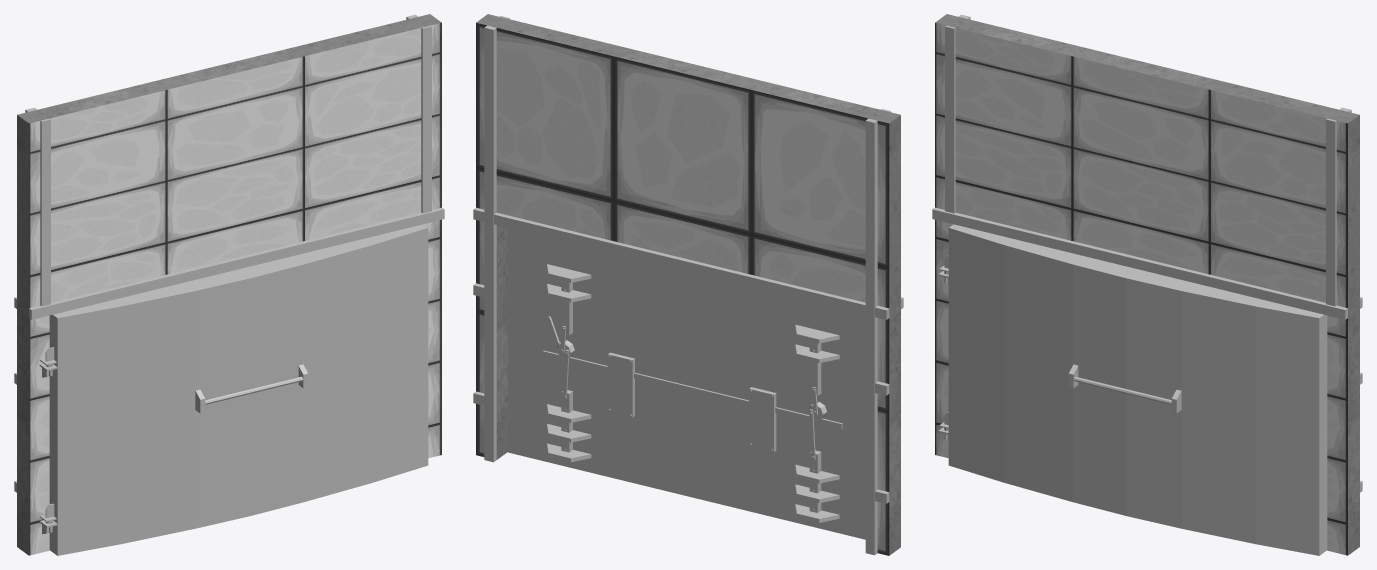
The model's file is SM_Heavy_Door_B.fbx.
3 views of the same model, side by side, from view 1: azimuth 30°, elevation 25°; view 2: azimuth 150°, elevation 25°; view 3: azimuth 330°, elevation 25° (orthographic).
Parts seen in each view (by area): view 1: SM_Heavy_Door_B, SM_Heavy_DoorB; view 2: SM_Heavy_Door_B, SM_Heavy_DoorB; view 3: SM_Heavy_Door_B, SM_Heavy_DoorB.
Part boxes in pixels (box(x1,y1,x2,y2)): SM_Heavy_Door_B: box(14, 14, 444, 555); SM_Heavy_DoorB: box(40, 224, 428, 555); SM_Heavy_Door_B: box(473, 14, 903, 555); SM_Heavy_DoorB: box(508, 228, 865, 539); SM_Heavy_Door_B: box(932, 14, 1362, 555); SM_Heavy_DoorB: box(939, 224, 1327, 555).
Bounding box in the file's own units: 400 × 400 × 56.6.
